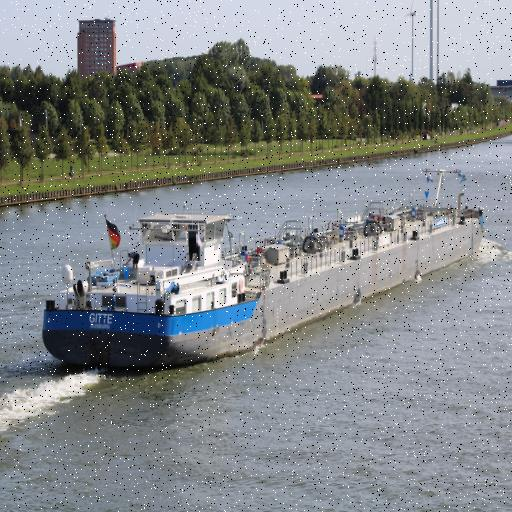tugboat: (39, 165, 487, 382)
